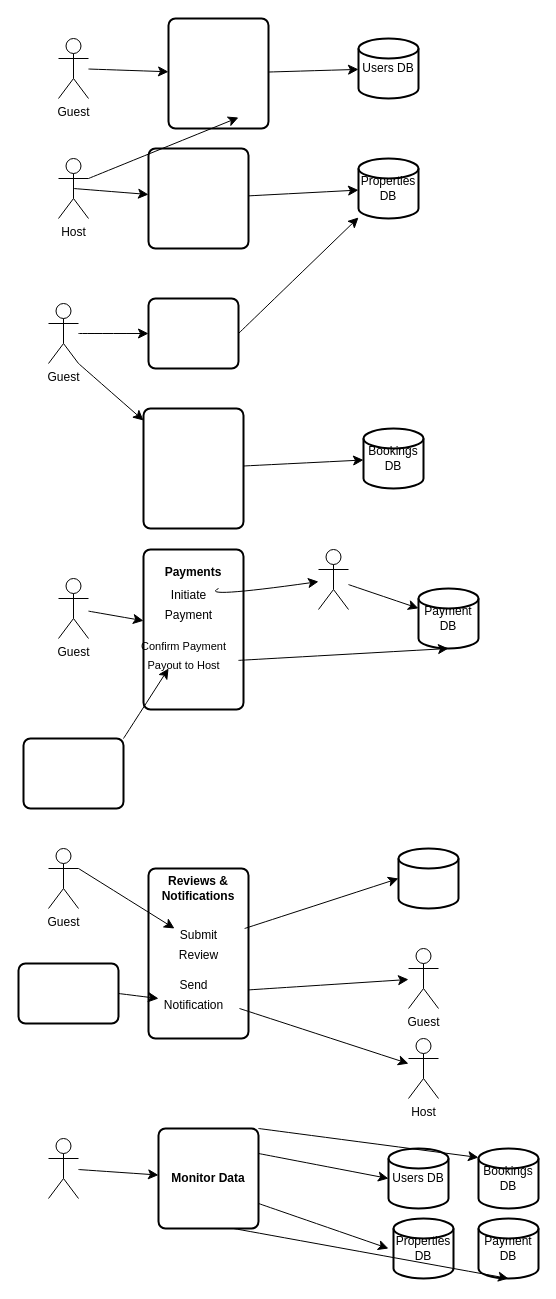
Image size: 556x1299. Some labels were removed from this diagram. The centre of each missing label's shape, as x and y in pixels:
"Admin" goes at pixel 63 1168.
"Booking Management Create/Cancel Booking Update Booking Status" goes at pixel 193 468.
"Booking Management Search Properties" goes at pixel 193 333.
"Payment Gateway" goes at pixel 333 579.
"Property Management Add/Edit/Delete Listing" goes at pixel 198 198.
"Reviews DB" goes at pixel 428 878.
"System" goes at pixel 68 993.
"Sytem" goes at pixel 73 773.
"User Management Register/Login User Manage Profile" goes at pixel 218 73.
